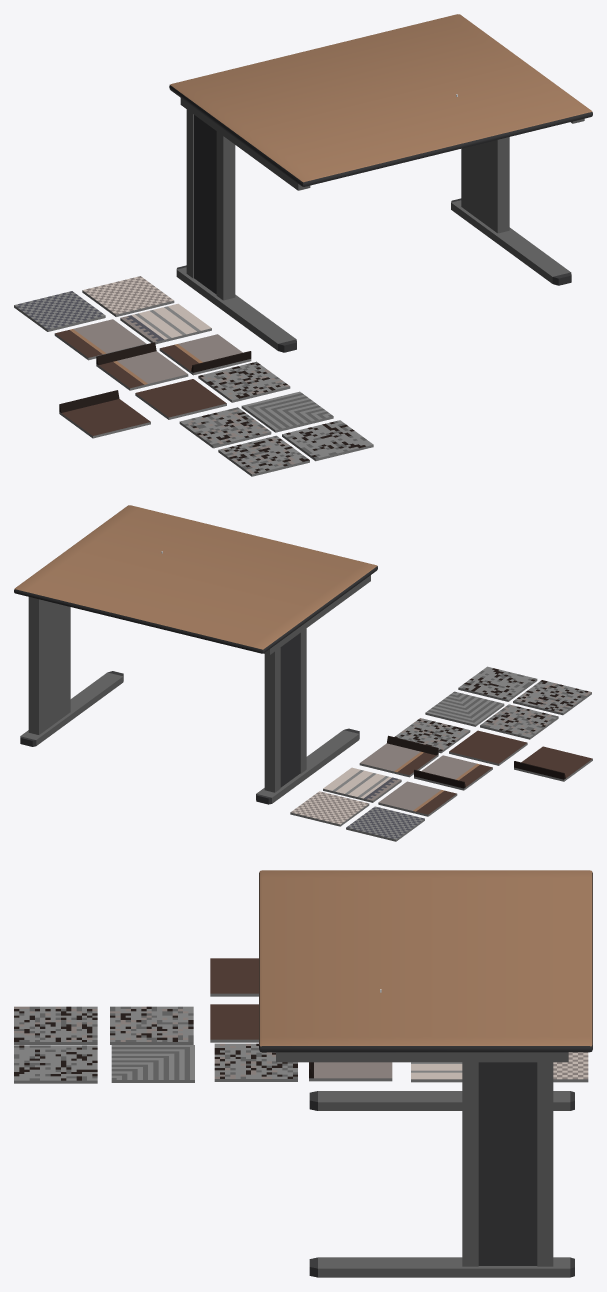
The model's file is Baseground_Stage2.fbx.
The picture shows the model from 3 angles, top to bottom: view 1: azimuth 30°, elevation 25°; view 2: azimuth 150°, elevation 25°; view 3: azimuth 270°, elevation 25°; orthographic projection. The views are drawn at different scales.
Parts seen in each view (by area): view 1: Desk, Tile_005, Tile_012, Tile_006, Tile_002, Tile_009, Tile_008, Tile_010, Tile_001, Tile_007, Tile_011, Tile_013 (+2 smaller); view 2: Desk, Tile_006, Tile_012, Tile_005, Tile_002, Tile_003, Tile_011, Tile_013, Tile_001, Tile_007, Tile_009, Tile_004 (+2 smaller); view 3: Desk, Tile_009, Tile_010, Tile_011, Tile_013, Tile_008, Tile_007, Tile_012, Tile_006, Tile_004, Tile_002.
Part boxes in pixels (left/top/right/bottom): Desk: left=169, top=14, right=592, bottom=352; Tile_005: left=96, top=342, right=188, bottom=390; Tile_012: left=59, top=390, right=150, bottom=438; Tile_006: left=159, top=334, right=251, bottom=375; Tile_002: left=82, top=276, right=174, bottom=316; Tile_009: left=179, top=407, right=271, bottom=448; Tile_008: left=198, top=361, right=290, bottom=402; Tile_010: left=218, top=435, right=309, bottom=476; Tile_001: left=14, top=291, right=105, bottom=331; Tile_007: left=135, top=379, right=226, bottom=419; Tile_011: left=282, top=420, right=373, bottom=461; Tile_013: left=241, top=391, right=333, bottom=432; Desk: left=14, top=505, right=377, bottom=804; Tile_006: left=359, top=735, right=438, bottom=777; Tile_012: left=514, top=746, right=592, bottom=781; Tile_005: left=414, top=755, right=492, bottom=790; Tile_002: left=290, top=791, right=369, bottom=826; Tile_003: left=378, top=781, right=457, bottom=816; Tile_011: left=458, top=666, right=537, bottom=701; Tile_013: left=425, top=691, right=504, bottom=726; Tile_001: left=346, top=806, right=424, bottom=841; Tile_007: left=449, top=730, right=527, bottom=765; Tile_009: left=480, top=704, right=558, bottom=739; Tile_004: left=323, top=767, right=401, bottom=802; Desk: left=259, top=870, right=592, bottom=1277; Tile_009: left=110, top=1006, right=193, bottom=1044; Tile_010: left=14, top=1006, right=97, bottom=1044; Tile_011: left=14, top=1045, right=97, bottom=1083; Tile_013: left=111, top=1045, right=194, bottom=1082; Tile_008: left=214, top=1043, right=297, bottom=1081; Tile_007: left=210, top=1004, right=258, bottom=1042; Tile_012: left=210, top=958, right=258, bottom=996; Tile_006: left=309, top=1062, right=392, bottom=1081; Tile_004: left=411, top=1062, right=462, bottom=1082; Tile_002: left=553, top=1052, right=588, bottom=1082.
Bounding box in the file's own units: 448 × 155 × 347.
Materials: 1 (1 with a texture image).
